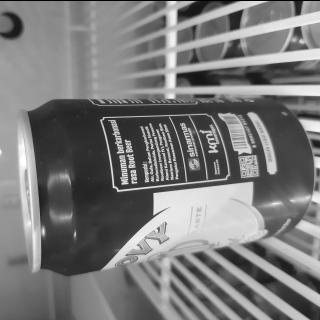alumunium_can: (12, 78, 318, 283)
